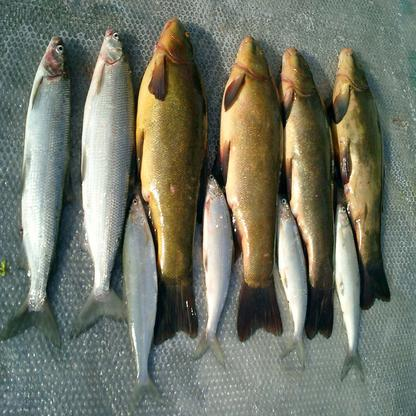fish: (140, 16, 208, 339), (215, 30, 278, 338), (14, 30, 70, 343), (77, 25, 133, 334), (280, 38, 335, 340), (335, 41, 394, 307)
